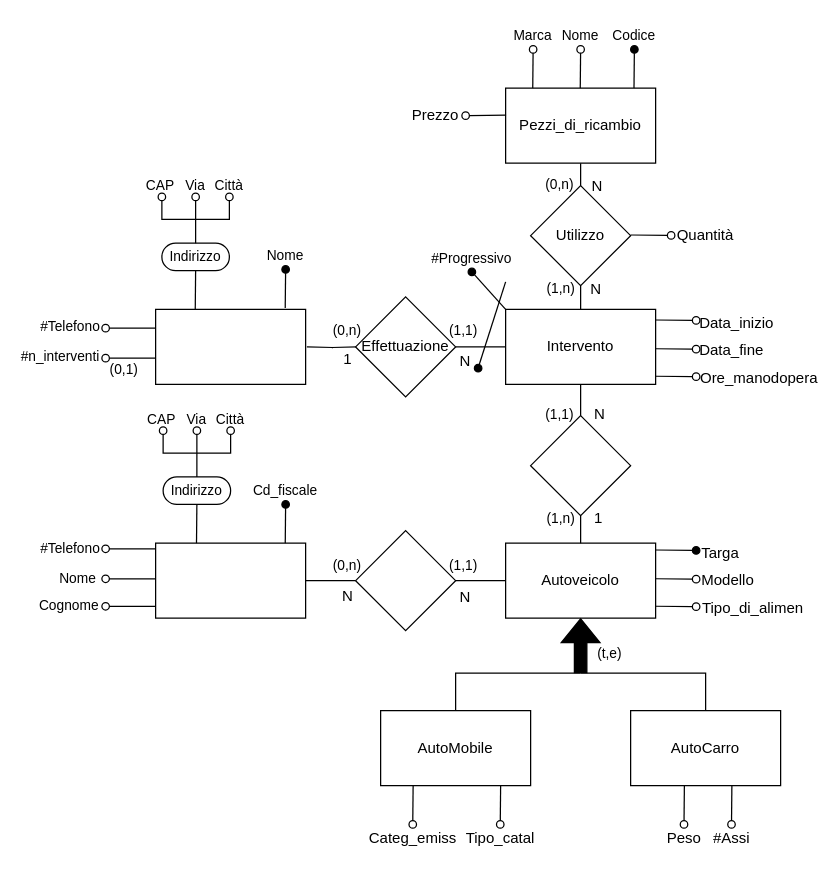
This 840x878 diagram has some shape labels left out. Each missing label, with the box of its shape:
Cliente: (154, 542, 306, 618)
Officina: (154, 308, 306, 384)
Proprietà: (354, 529, 456, 631)
Riparazione: (529, 414, 631, 516)
